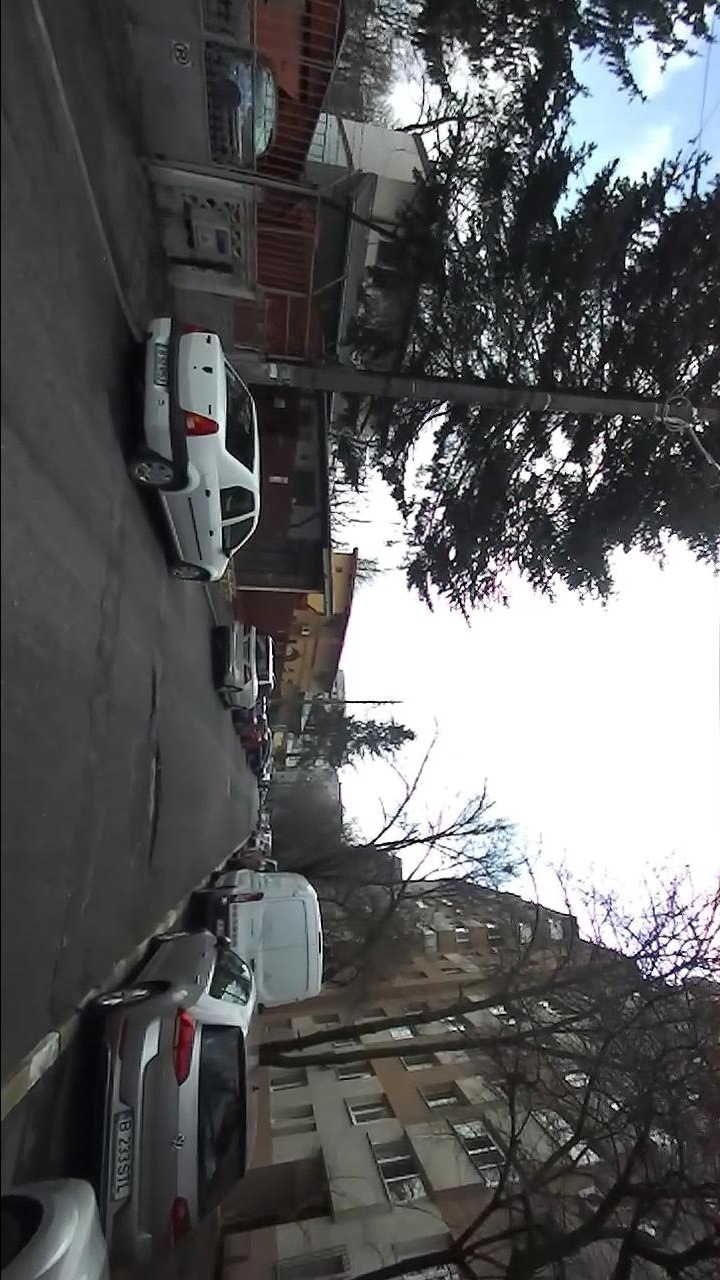pothole: (143, 743, 165, 868), (146, 664, 159, 727)
